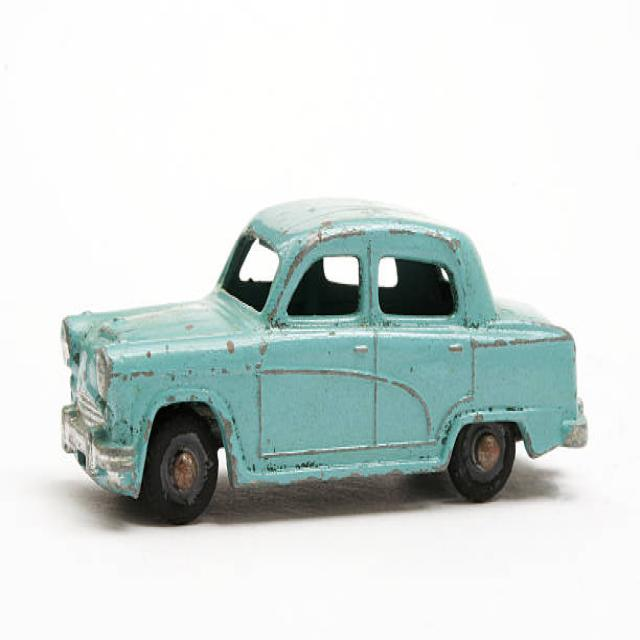Car: (58, 194, 588, 526)
